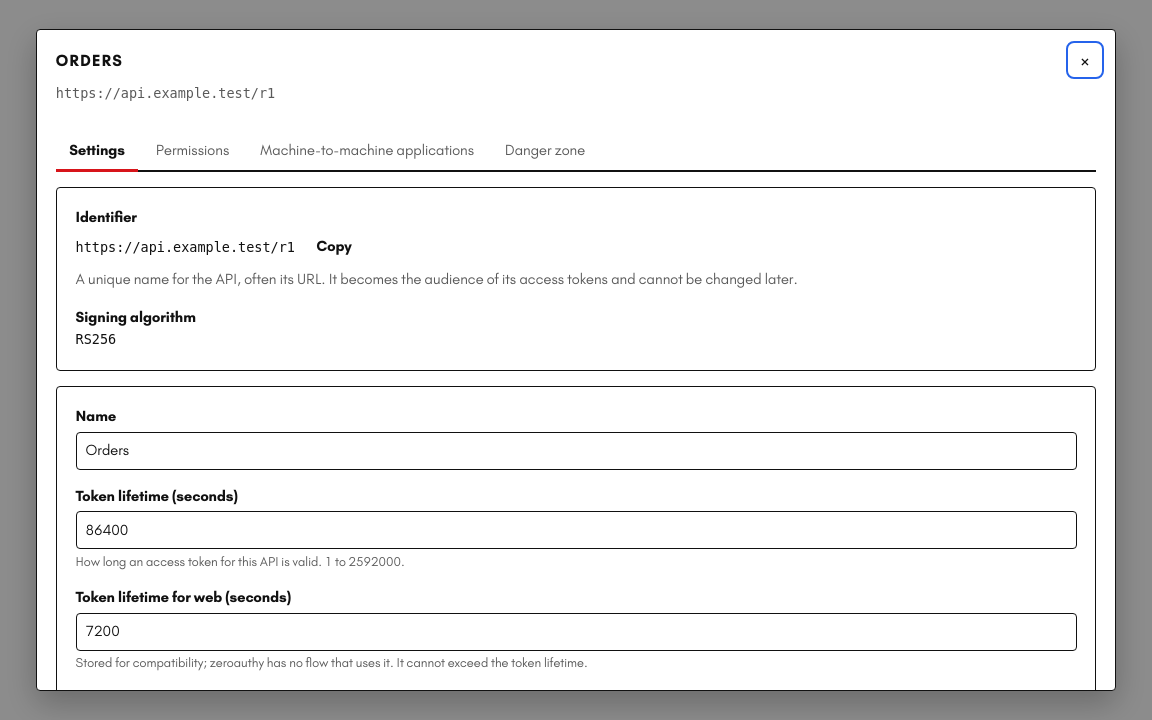
API detail › settings › validates lifetimes before saving
The width and height of the screenshot is (1152, 720).
Replace the text in the field with id "api-lifetime" with "0": (576, 530) [76,511,1076,549]
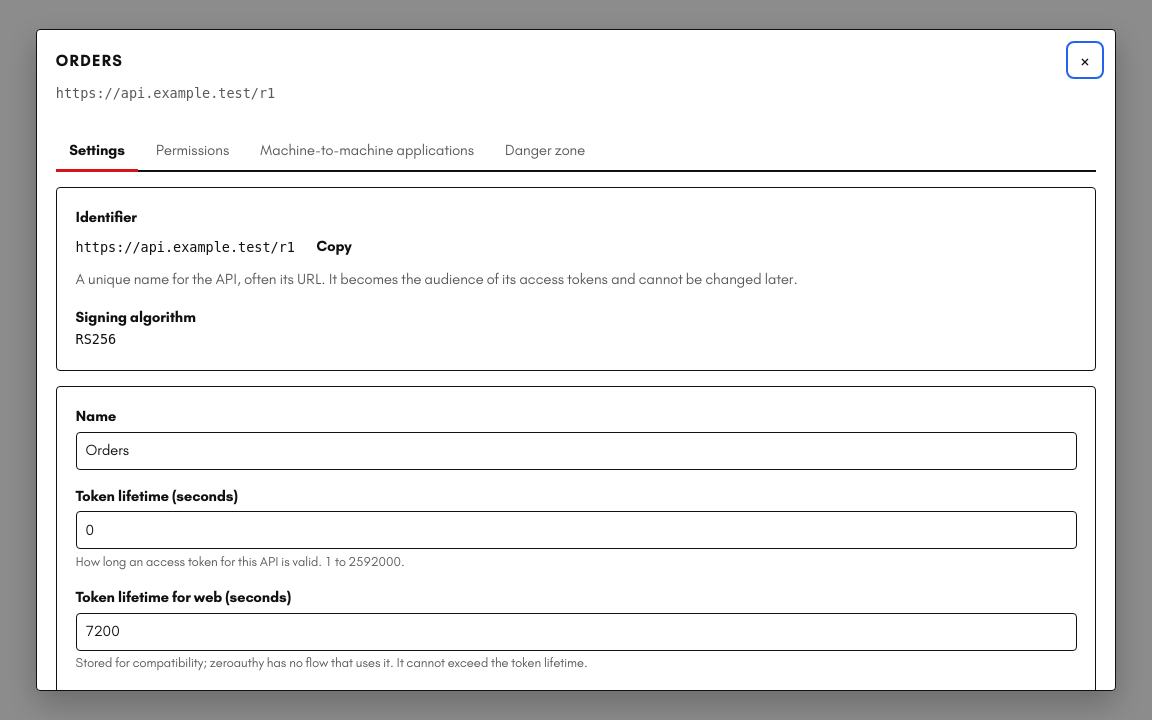
Replace the text in the field with id "api-lifetime-web" with "x": (576, 632) [76,612,1076,650]
(page scrolled)
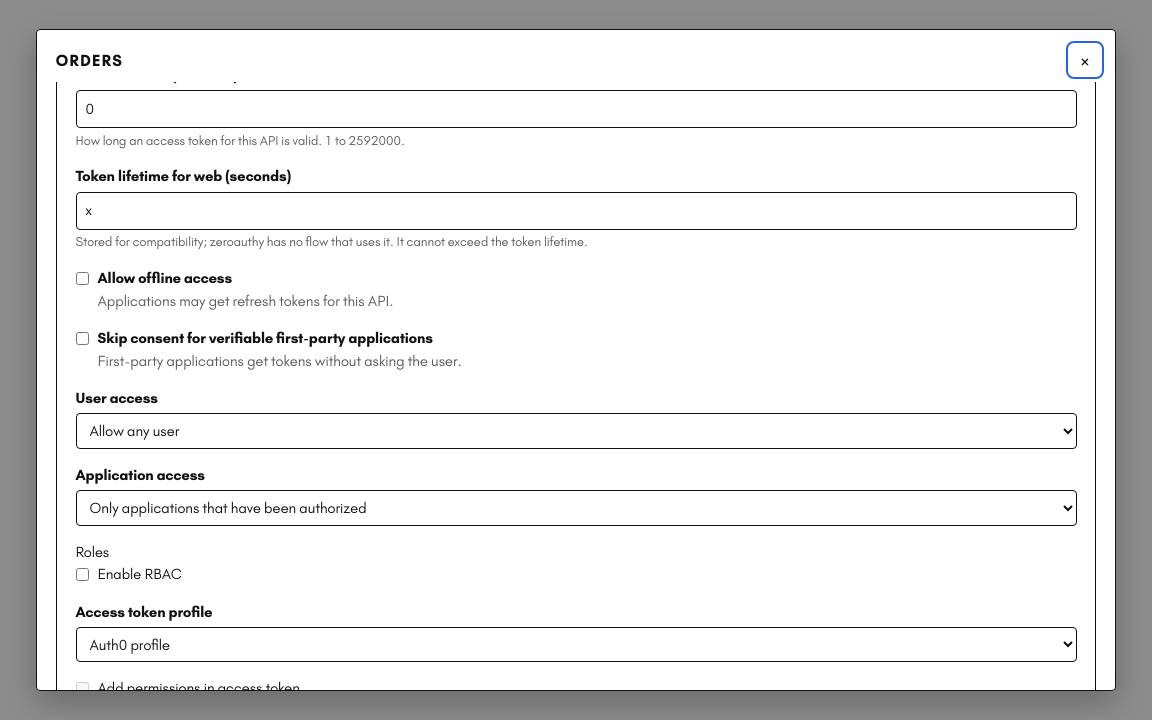
Submit the form
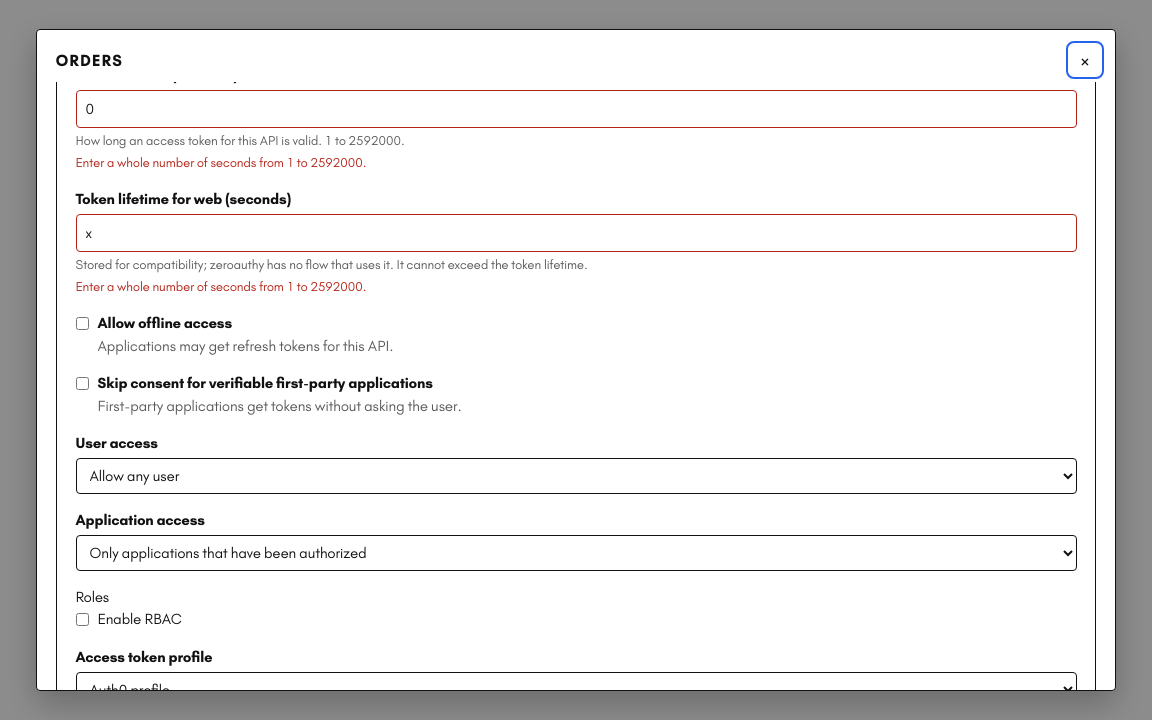
Expected: the message with id "api-lifetime-error" shows "from 1 to 2592000", [76,155,366,170]
Expected: the message with id "api-lifetime-web-error" is shown, [76,279,366,294]
Replace the text in the field with id "api-lifetime" with "3600": (576, 109) [76,90,1076,128]
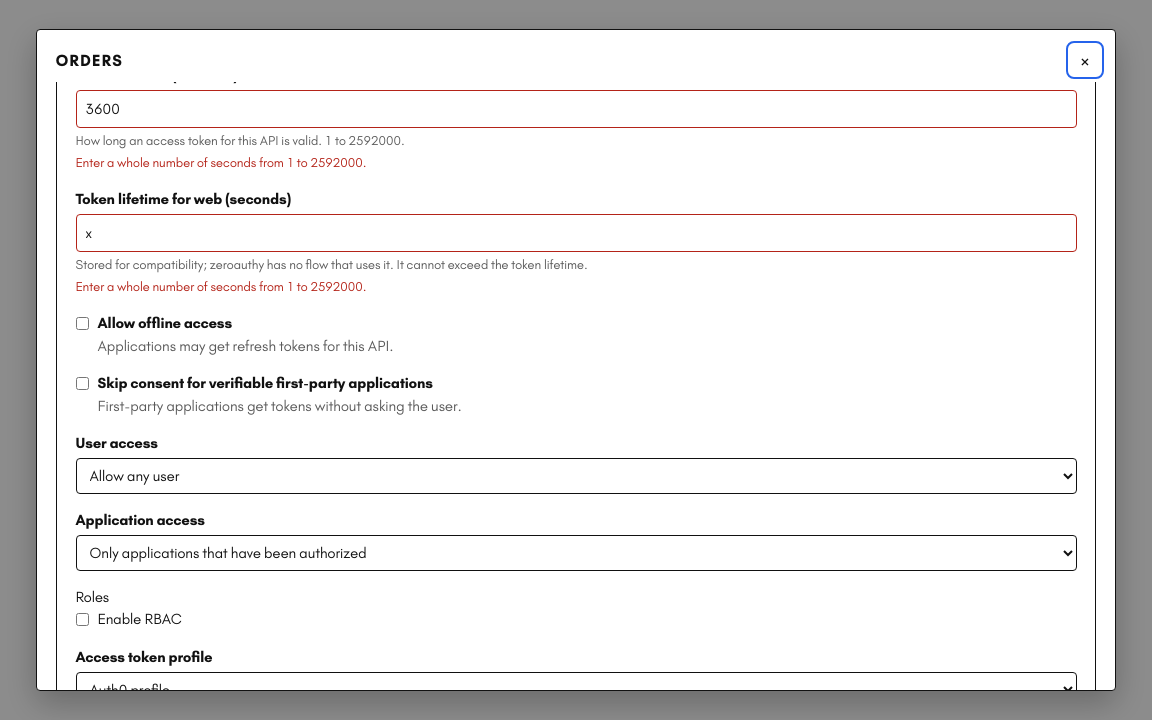
Replace the text in the field with id "api-lifetime-web" with "7200": (576, 233) [76,214,1076,252]
(page scrolled)
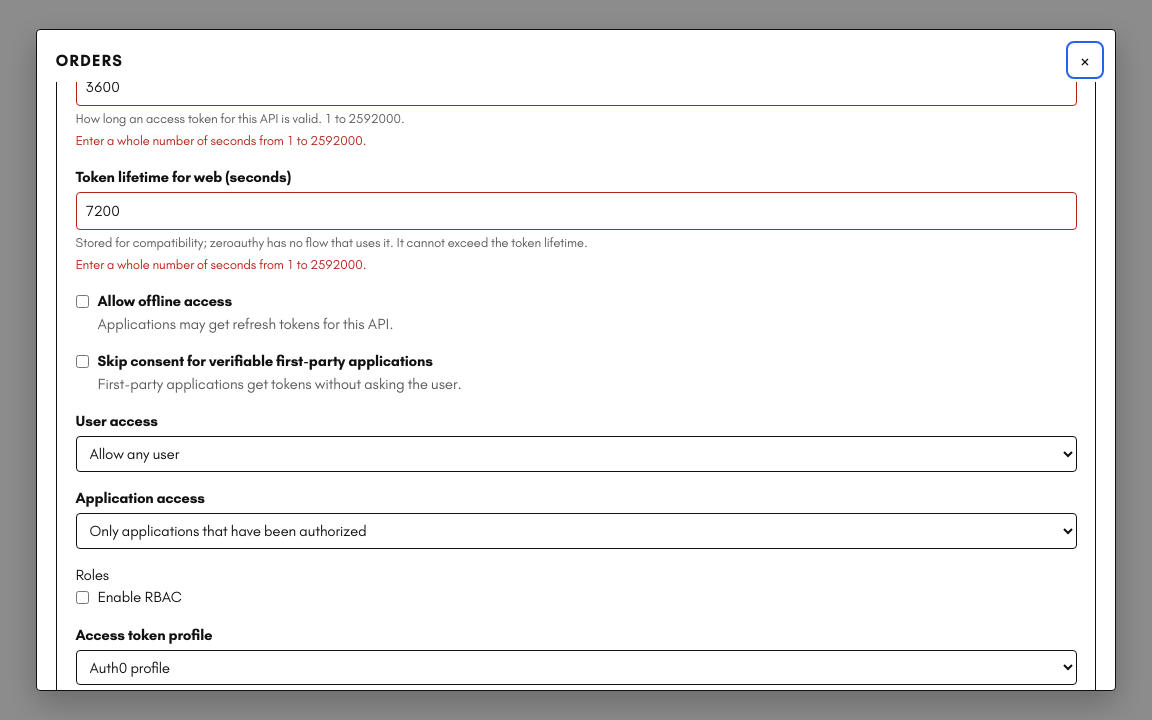
Submit the form
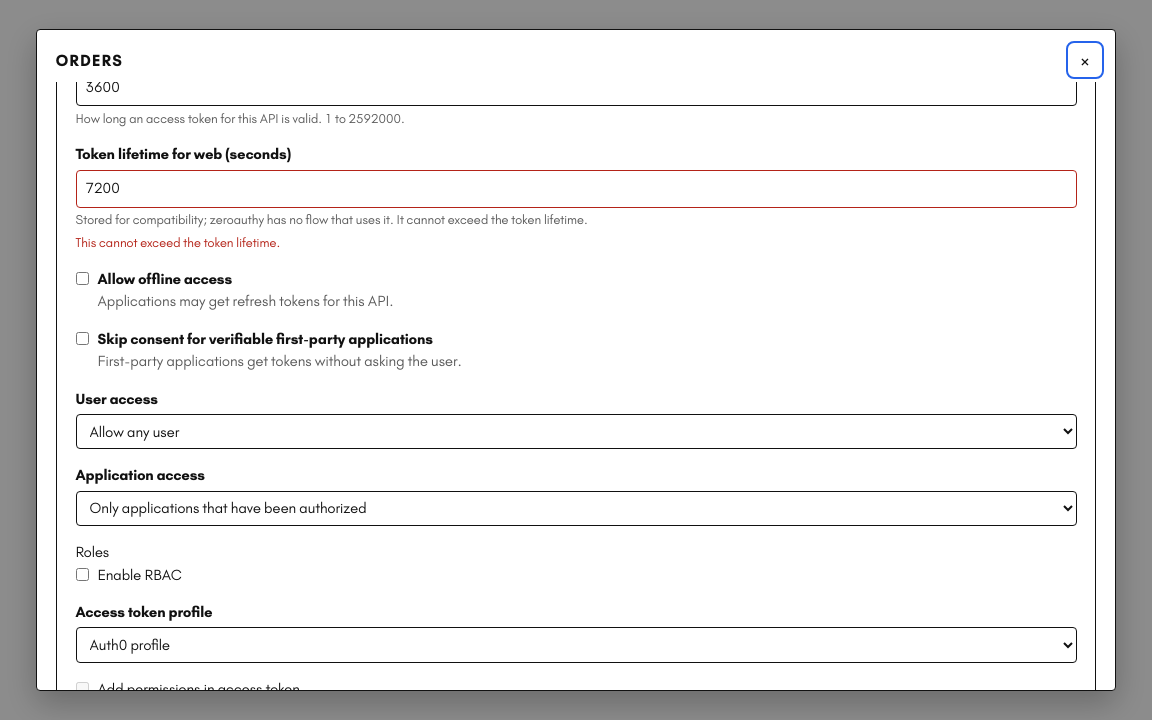
Expected: the message with id "api-lifetime-web-error" shows "cannot exceed", [76,235,280,250]
